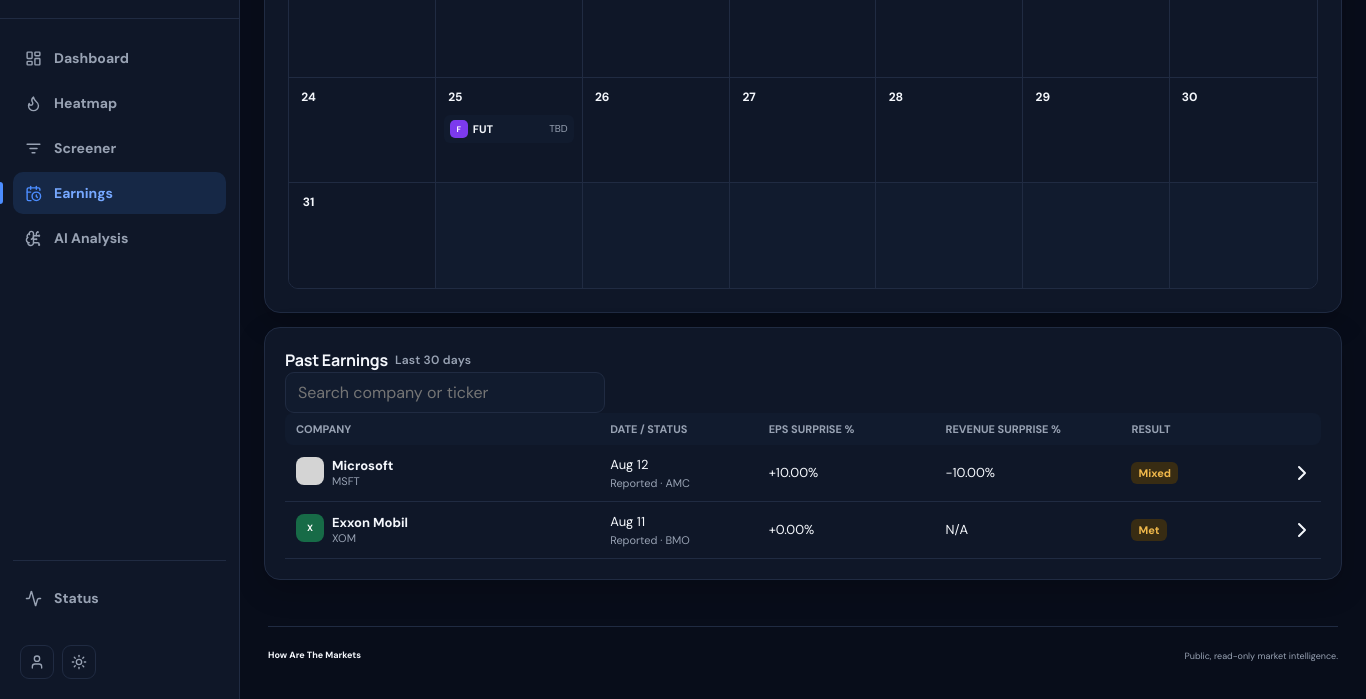
Earnings page data population and enrichment › filters Past Earnings by company or ticker
The image size is (1366, 699).
(page scrolled)
Expected: the text "Exxon Mobil" is shown, [332, 514, 408, 531]
Type "xom" into the search field with placeholder "Search company or ticker" at (445, 392), box [285, 372, 605, 413]
(page scrolled)
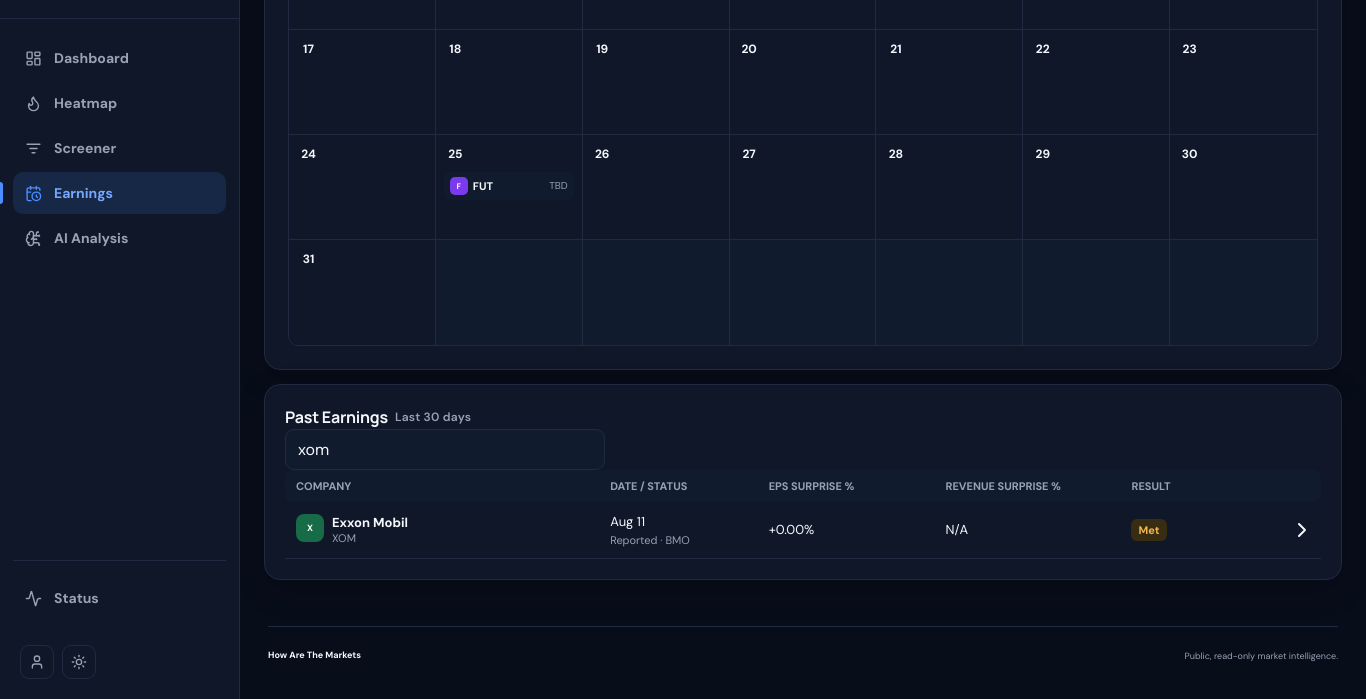
Expected: the text "Exxon Mobil" is shown, [332, 514, 408, 531]
Now the button "Microsoft" is gone
Replace the text in the search field with placeholder "Search company or ticker" with "no-such-company" at (445, 449), box [285, 429, 605, 470]
(page scrolled)
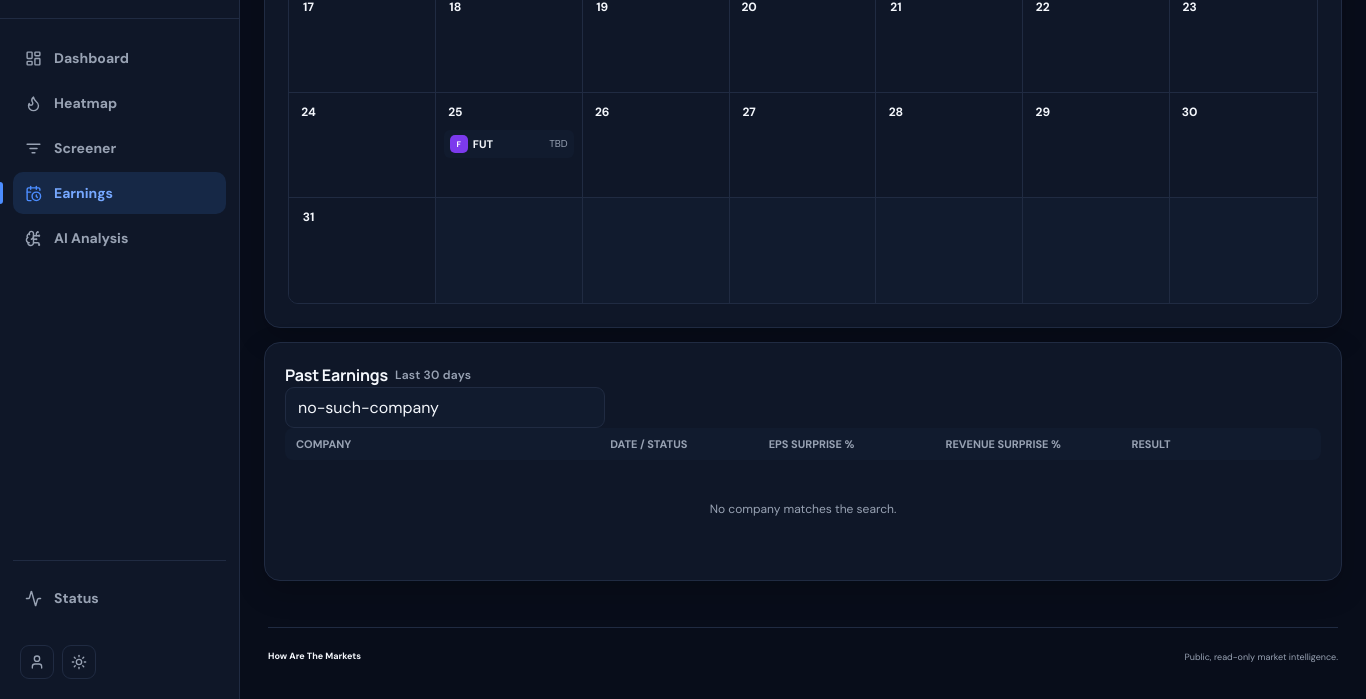
Now the text "No company matches the search." is shown, box [710, 501, 896, 517]
